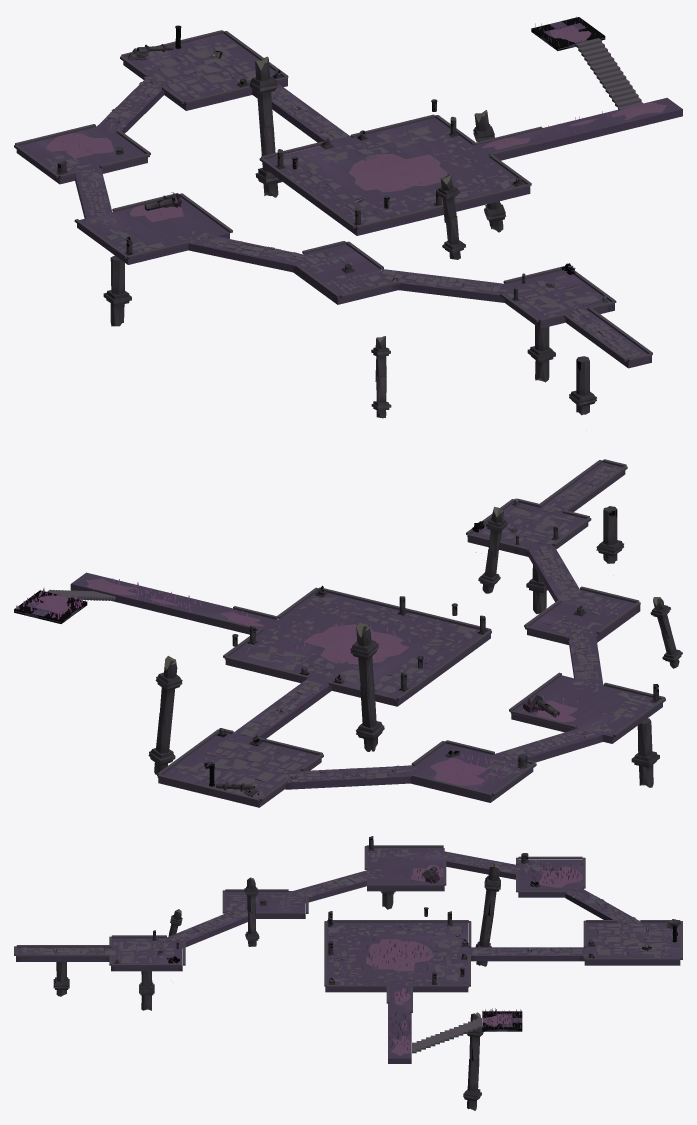
Rendered from 3-3-DK-ModApplied.glb.
The picture shows the model from 3 angles, top to bottom: view 1: azimuth 30°, elevation 25°; view 2: azimuth 150°, elevation 25°; view 3: azimuth 270°, elevation 25°; orthographic projection. The views are drawn at different scales.
Parts seen in each view (by area): view 1: NewBase.001-col, Ground.007, Tile.013, PillarBig.005, Stairs.002, PillarBig.003, Tile.002, Ground.004, Tile.018, PillarBig.004, Tile.015, Platform (+12 smaller); view 2: NewBase.001-col, Tile.013, Ground.007, PillarBig.005, PillarBig.006, Ground.004, PillarBig.003, Tile.015, Tile.002, PillarBig.004, Tile.014, Tile.018 (+14 smaller); view 3: NewBase.001-col, Ground.007, Tile.013, PillarBig.005, PillarBig.006, Stairs.002, Ground.004, Tile.015, PillarBig.003, Tile.018, Tile.002, Tile.014 (+9 smaller).
Part boxes in pixels (<box>): NewBase.001-col: <box>16,33,682,368</box>; Ground.007: <box>348,143,459,193</box>; Tile.013: <box>143,39,271,98</box>; PillarBig.005: <box>249,56,282,197</box>; Stairs.002: <box>575,38,643,109</box>; PillarBig.003: <box>436,174,465,259</box>; Tile.002: <box>506,275,601,316</box>; Ground.004: <box>33,132,114,163</box>; Tile.018: <box>309,126,450,164</box>; PillarBig.004: <box>103,255,131,326</box>; Tile.015: <box>279,155,392,223</box>; Platform: <box>531,17,605,50</box>; NewBase.001-col: <box>70,462,662,807</box>; Tile.013: <box>170,736,308,794</box>; Ground.007: <box>291,613,421,670</box>; PillarBig.005: <box>350,622,384,751</box>; PillarBig.006: <box>148,656,182,774</box>; Ground.004: <box>429,753,513,789</box>; PillarBig.003: <box>478,506,507,593</box>; Tile.015: <box>374,624,476,694</box>; Tile.002: <box>482,506,574,544</box>; PillarBig.004: <box>631,718,659,787</box>; Tile.014: <box>234,680,323,737</box>; Tile.018: <box>238,641,373,686</box>; NewBase.001-col: <box>16,848,680,1063</box>; Ground.007: <box>361,937,433,971</box>; Tile.013: <box>589,923,679,958</box>; PillarBig.005: <box>475,863,500,966</box>; PillarBig.006: <box>463,1012,484,1110</box>; Stairs.002: <box>412,1018,481,1053</box>; Ground.004: <box>528,861,582,887</box>; Tile.015: <box>327,922,463,936</box>; PillarBig.003: <box>244,877,259,946</box>; Tile.018: <box>427,938,465,984</box>; Tile.002: <box>113,938,174,963</box>; Tile.014: <box>472,947,584,955</box>.
Bounding box in the file's own units: 169 × 60.74 × 224.
Materials: 15 (6 with a texture image).
